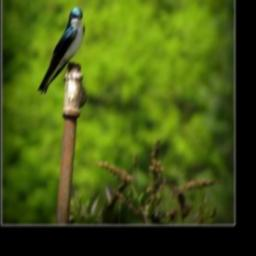Swallow: (36, 6, 85, 96)
